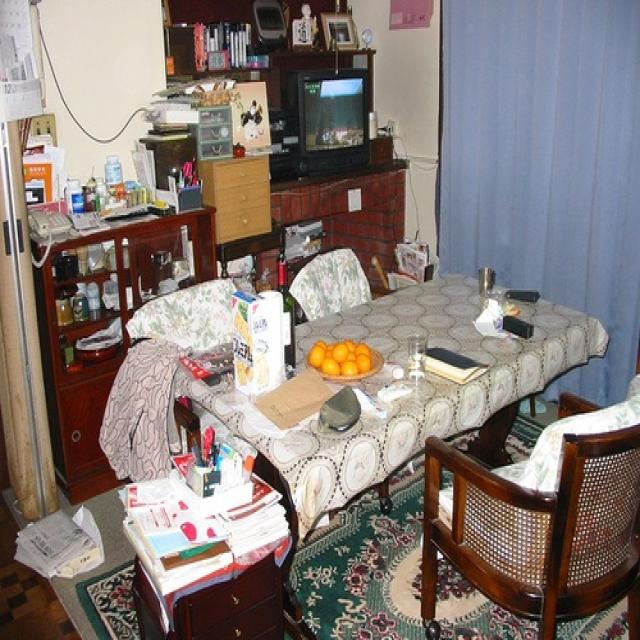chair: (421, 377, 639, 638), (123, 275, 270, 454), (286, 247, 372, 321)
diningtable: (168, 266, 614, 638)
tvmonitor: (286, 65, 372, 169)
